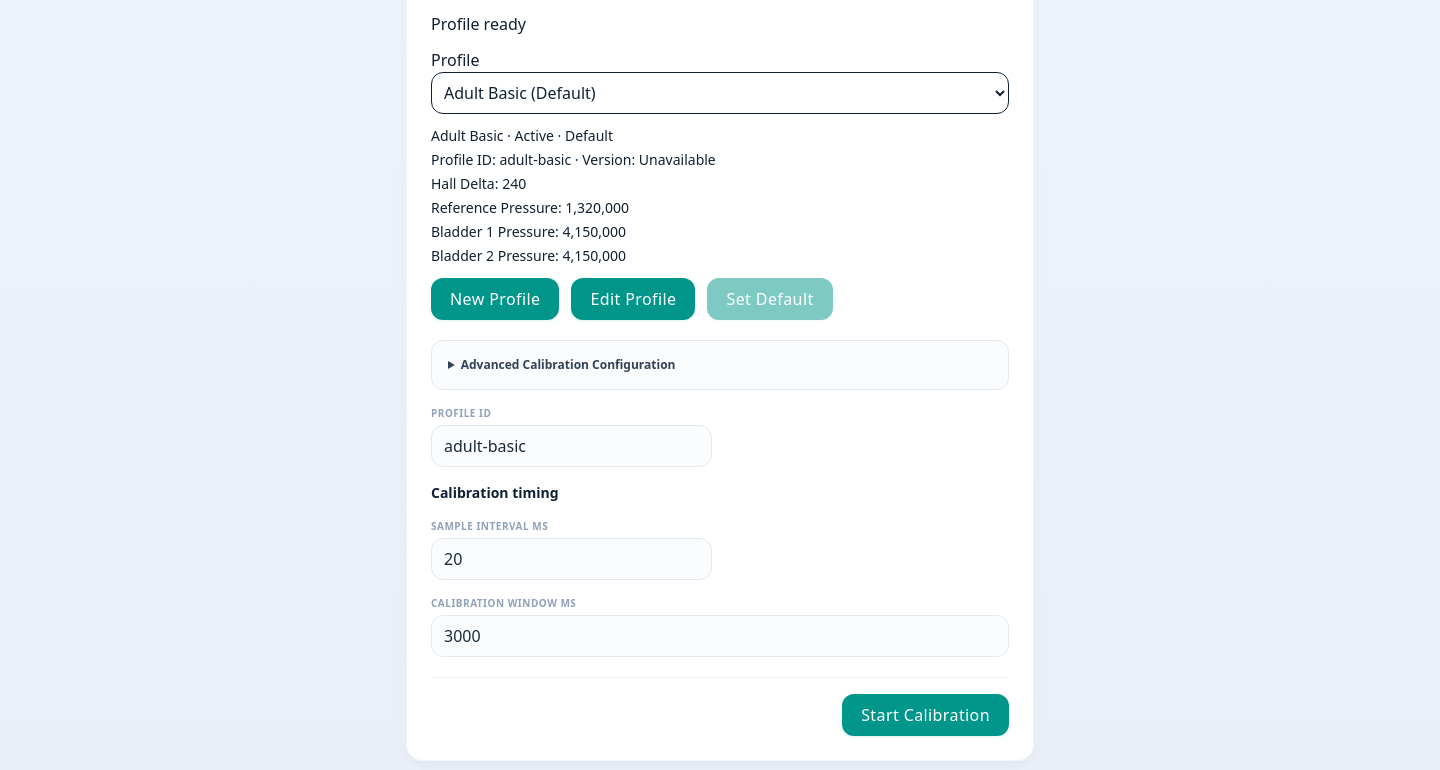
Test: CalibrationWizardPage › renders the default form and options
This screenshot has width=1440, height=770.
(page scrolled)
Click the heading "Advanced Calibration Configuration": (568,365) [461,356,676,373]
(page scrolled)
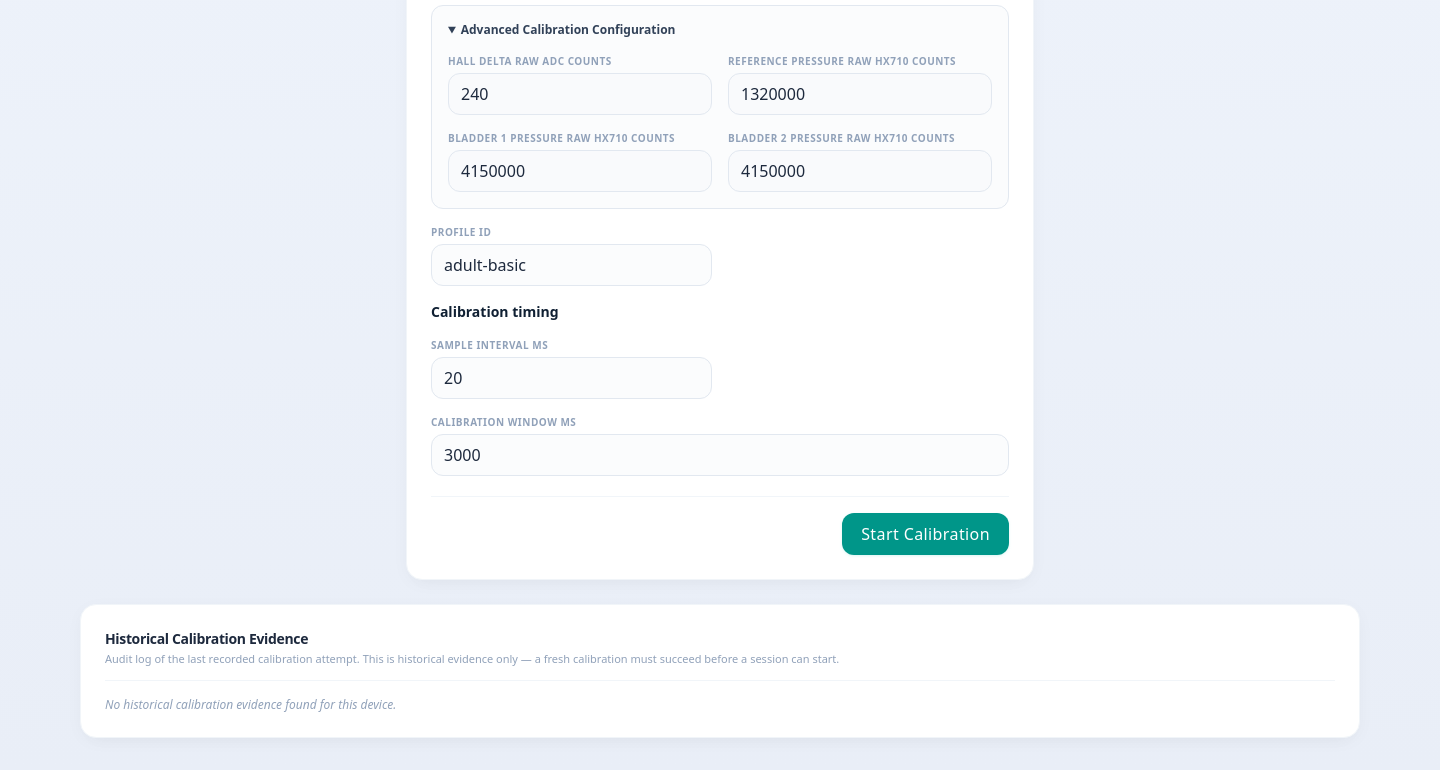
Check: the field labelled "Hall Delta Raw ADC Counts" holds "240", box [448,73,712,115]
Check: the field labelled "Reference Pressure Raw HX710 Counts" holds "1320000", box [728,73,992,115]
Check: the field labelled "Bladder 1 Pressure Raw HX710 Counts" holds "4150000", box [448,150,712,192]
